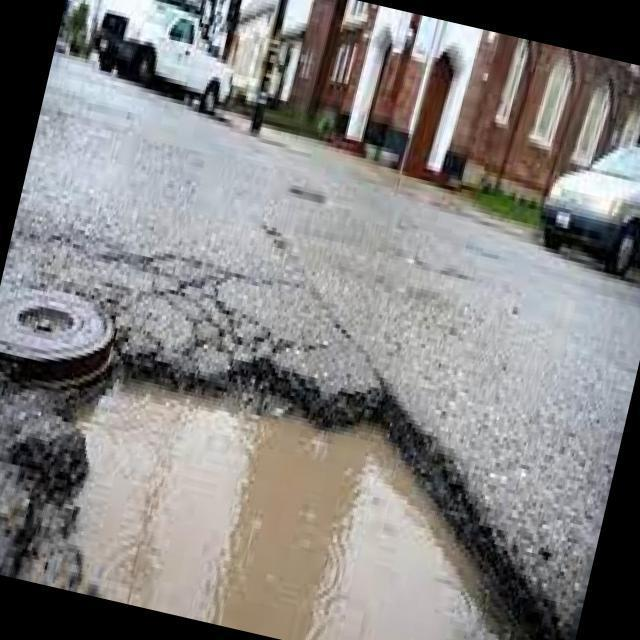Pothole: (0, 330, 531, 639)
